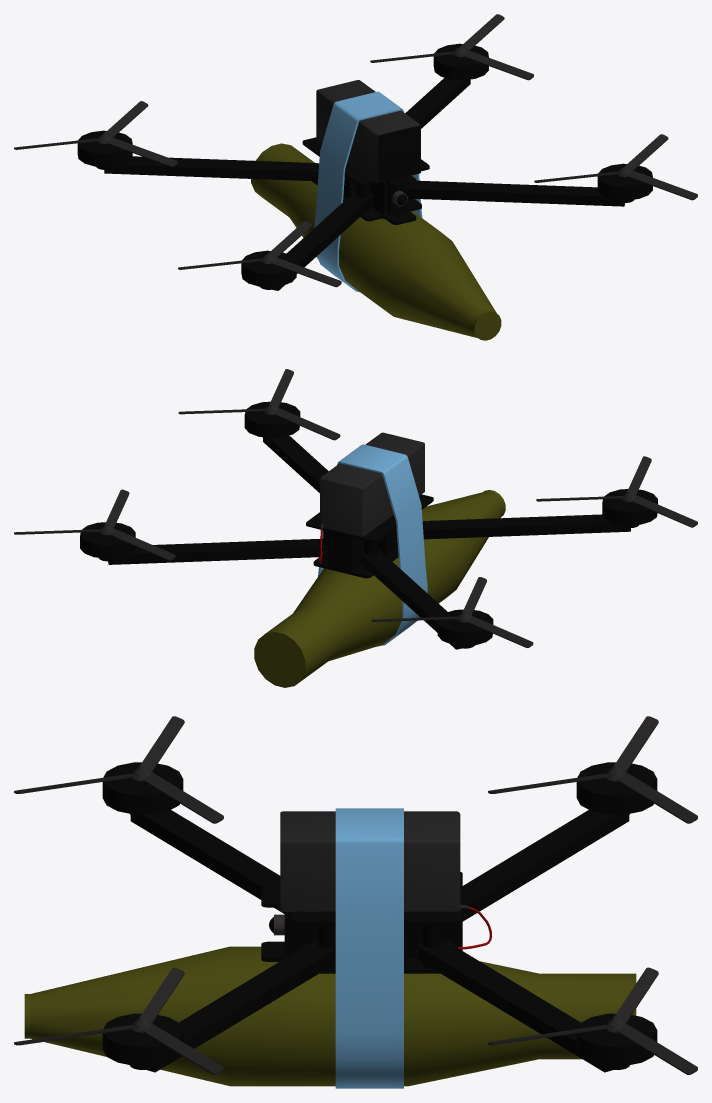
The model's file is fpv_drone_lod_3k.glb.
3 views of the same model, one above another, from view 1: azimuth 30°, elevation 25°; view 2: azimuth 150°, elevation 25°; view 3: azimuth 270°, elevation 25° (orthographic). The views are drawn at different scales.
Visible parts, largest first — view 1: Body_drone, propeller3_drone, propeller2_drone, propeller1_drone, propeller_drone; view 2: Body_drone, propeller2_drone, propeller_drone, propeller3_drone, propeller1_drone; view 3: Body_drone, propeller3_drone, propeller_drone, propeller1_drone, propeller2_drone.
Boxes of the visible parts, <box> form: Body_drone: <box>77,43,652,340</box>; propeller3_drone: <box>14,101,177,167</box>; propeller2_drone: <box>178,221,341,287</box>; propeller1_drone: <box>534,134,697,200</box>; propeller_drone: <box>370,14,533,80</box>; Body_drone: <box>80,401,657,687</box>; propeller2_drone: <box>536,456,697,527</box>; propeller_drone: <box>14,489,175,560</box>; propeller3_drone: <box>371,577,533,647</box>; propeller1_drone: <box>178,369,340,440</box>; Body_drone: <box>24,762,657,1088</box>; propeller3_drone: <box>488,716,697,823</box>; propeller_drone: <box>488,967,697,1074</box>; propeller1_drone: <box>14,967,223,1074</box>; propeller2_drone: <box>14,716,223,823</box>.
Size of the model in its own units: 4.48 by 1.52 by 3.65.
1 material, 1 textured.
